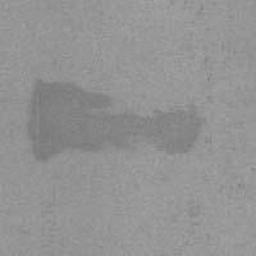Oil spot: (22, 76, 214, 164)
